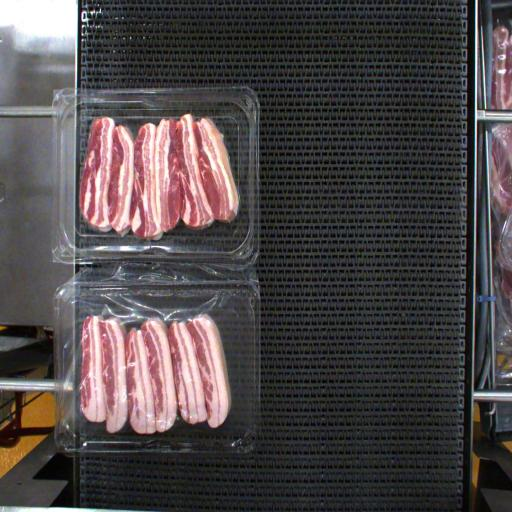unsealed: (58, 281, 246, 436)
